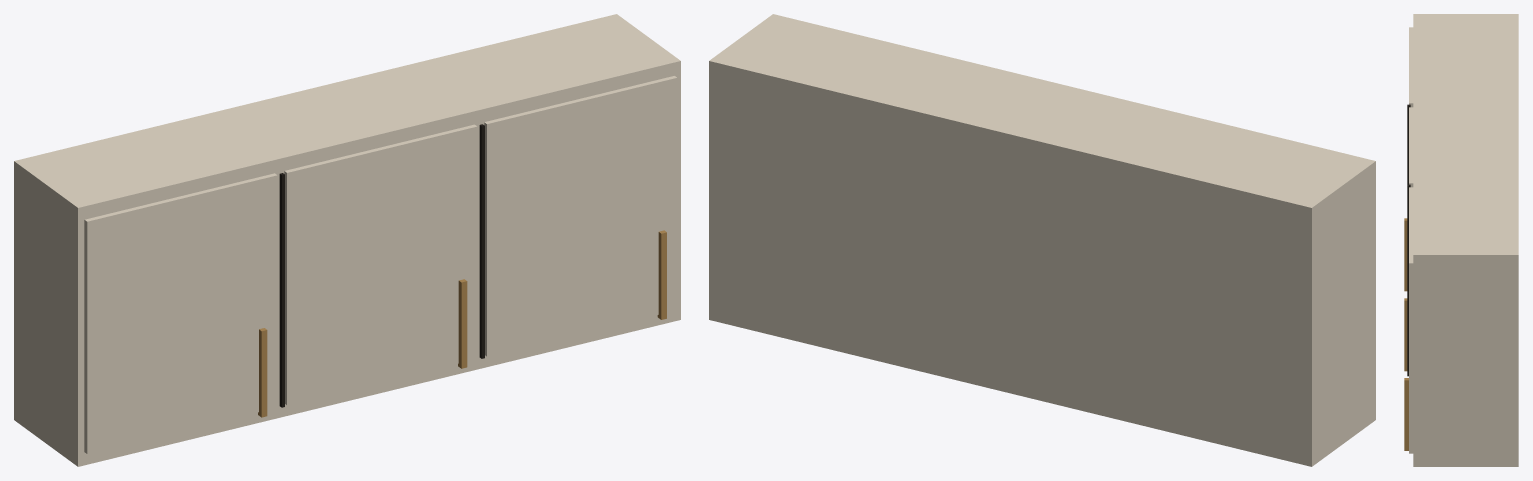
3 renders of one model, left to right at view 1: azimuth 30°, elevation 25°; view 2: azimuth 150°, elevation 25°; view 3: azimuth 270°, elevation 25°, orthographic. The views are drawn at different scales.
Visible parts, largest first — view 1: upper-cabinet; view 2: upper-cabinet; view 3: upper-cabinet.
Part boxes in pixels (x1,y1,x2,y2): upper-cabinet: (14, 14, 680, 466); upper-cabinet: (709, 14, 1375, 466); upper-cabinet: (1404, 14, 1518, 466).
Size of the model in its own units: 1.9 by 0.791 by 0.38.
